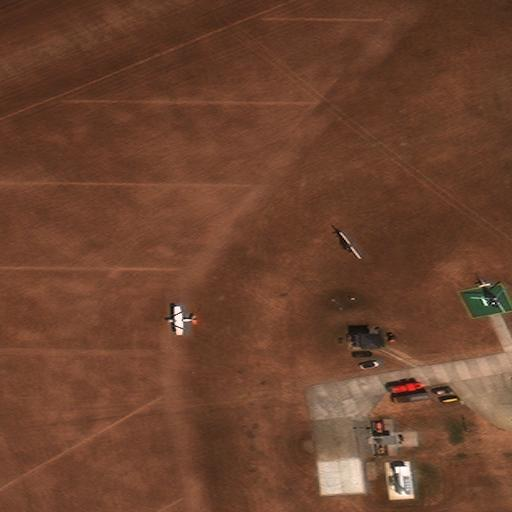Small Civil Transport: (167, 305, 198, 335)
